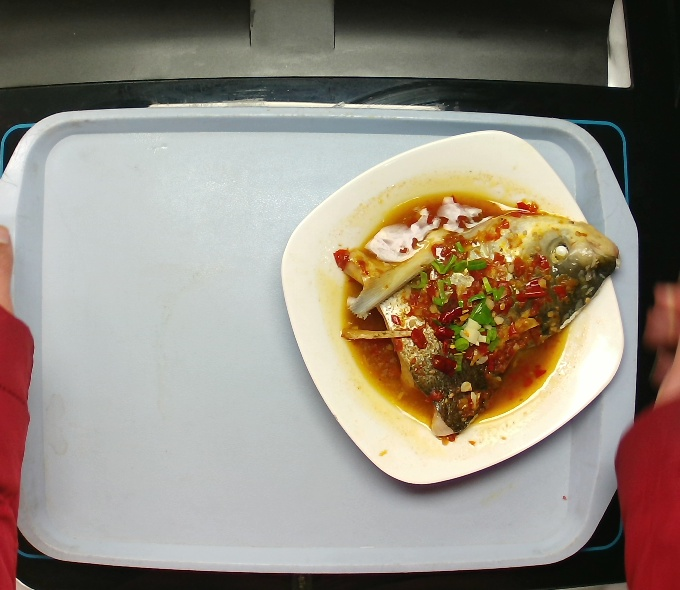wcq-DuoJiaoYuTou: (325, 177, 629, 454)
